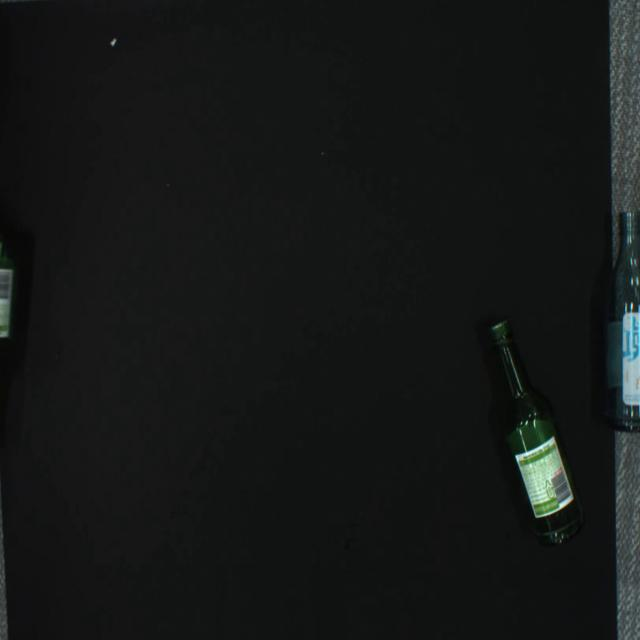soju-bottle: (489, 320, 586, 548), (603, 212, 640, 432)
